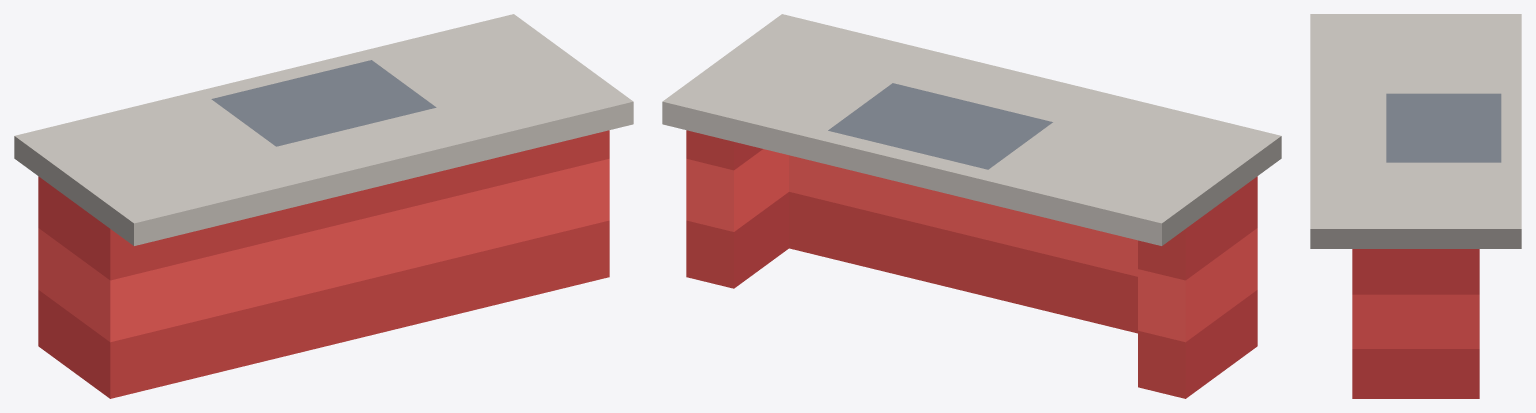
File: Counter6.glb
The picture shows the model from 3 angles, left to right: view 1: azimuth 30°, elevation 25°; view 2: azimuth 150°, elevation 25°; view 3: azimuth 270°, elevation 25°; orthographic projection. The views are drawn at different scales.
Parts seen in each view (by area): view 1: SI_Prop_Counter_07; view 2: SI_Prop_Counter_07; view 3: SI_Prop_Counter_07.
Boxes of the visible parts, left/top/right/bottom form: SI_Prop_Counter_07: left=14, top=14, right=633, bottom=398; SI_Prop_Counter_07: left=662, top=14, right=1281, bottom=398; SI_Prop_Counter_07: left=1310, top=14, right=1521, bottom=398.
Size of the model in its own units: 0.04 by 0.0148 by 0.0166.
Materials: 1 (1 with a texture image).
